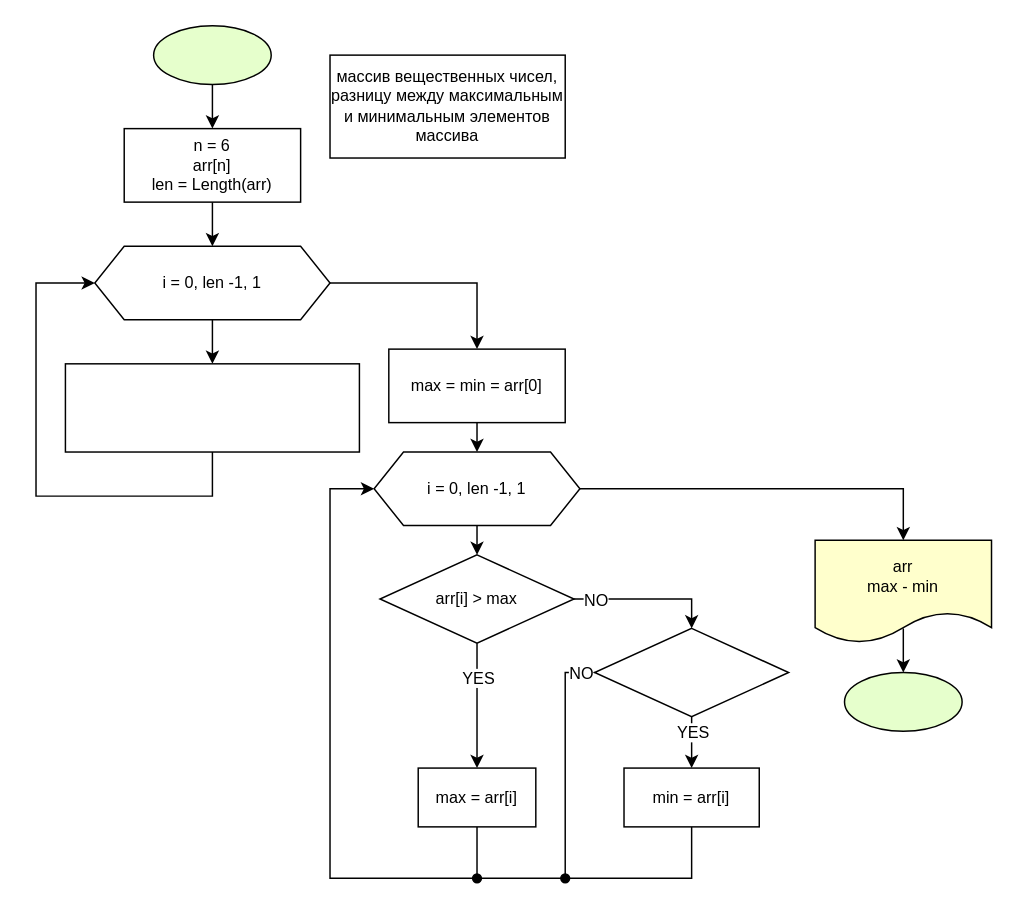
This 1017x916 diagram has some shape labels left out. Each missing label, with the centre of its shape:
arr[i] < min: point 691,672
arr[i] = Random [-50.0, 50.0]: point 211,407
end: point 902,701
start: point 211,54
